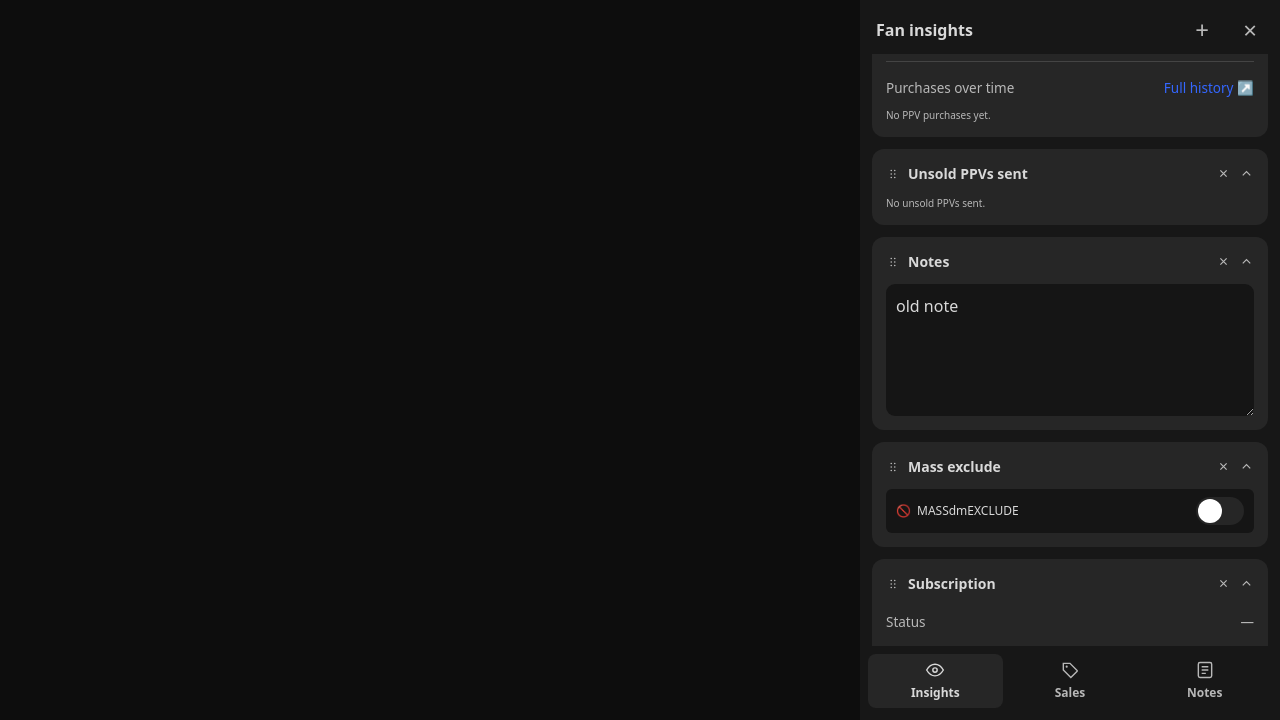
Test: Fan insights head, tabs and Extras overflow › text typed into Fan notes is still there after switching to Sales and back
(page scrolled)
Replace the text in the text box with placeholder "loves bondage, German, paid $500 last week…" with "draft note" at (1070, 350), box [886,284,1254,416]
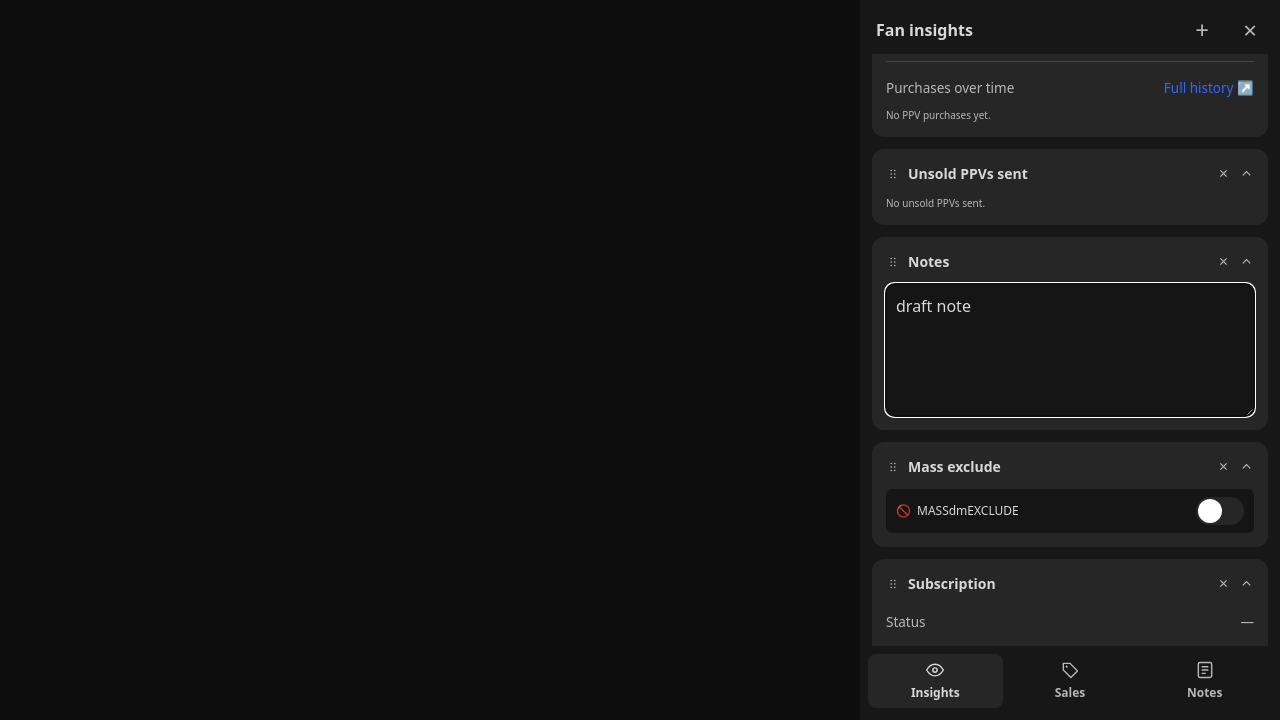
Click the tab "Sales" at (1070, 681), box [1003,654,1137,708]
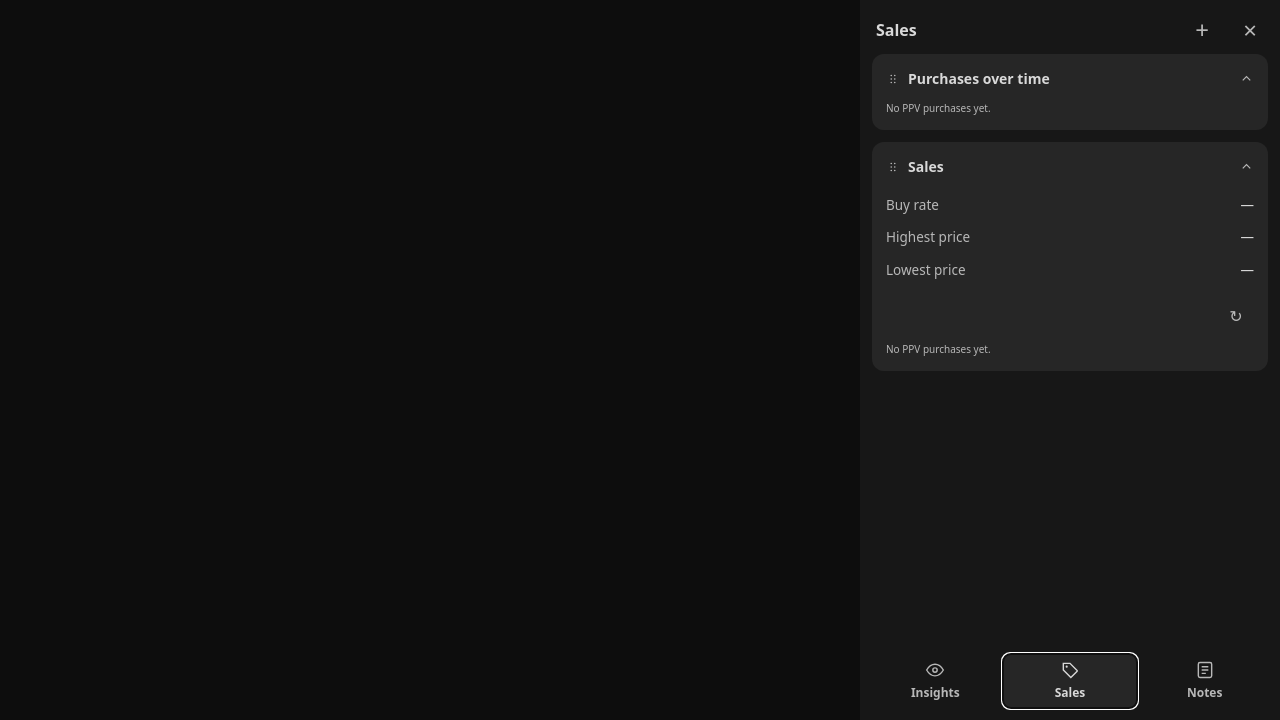
Click the tab "Insights" at (935, 681), box [868,654,1003,708]
(page scrolled)
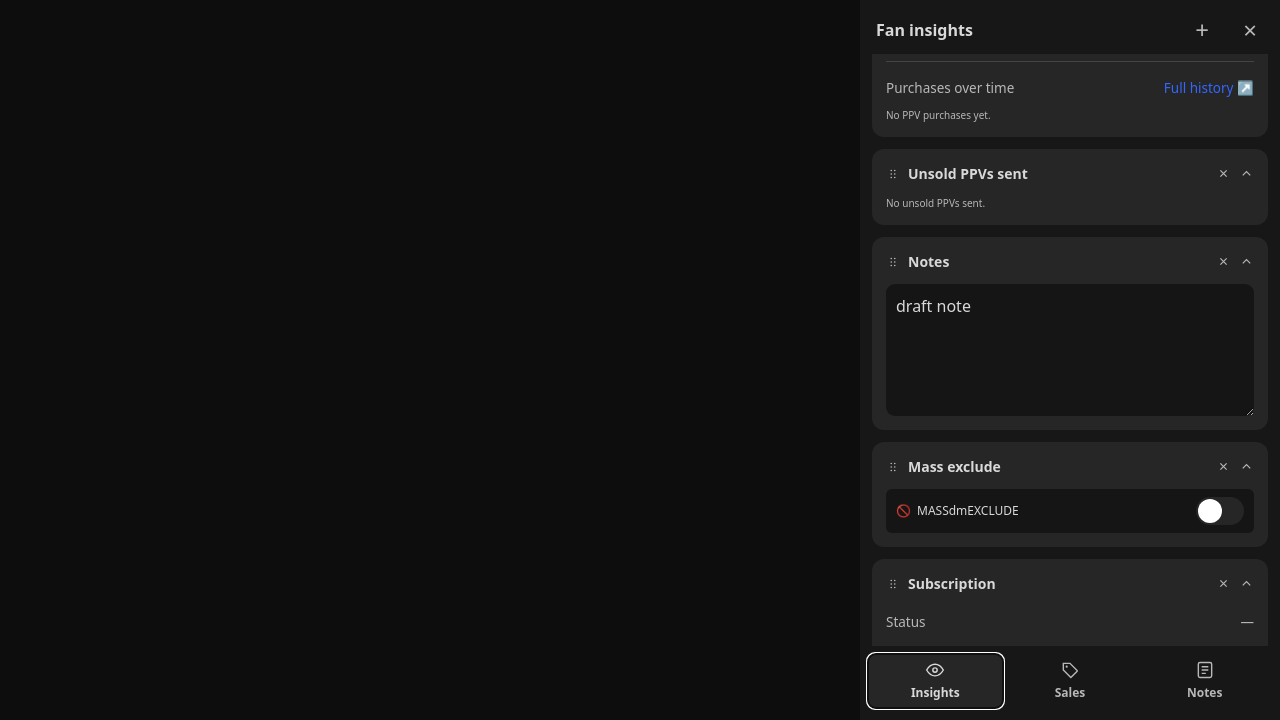
Now the text box with placeholder "loves bondage, German, paid $500 last week…" holds "draft note", box [886,284,1254,416]
